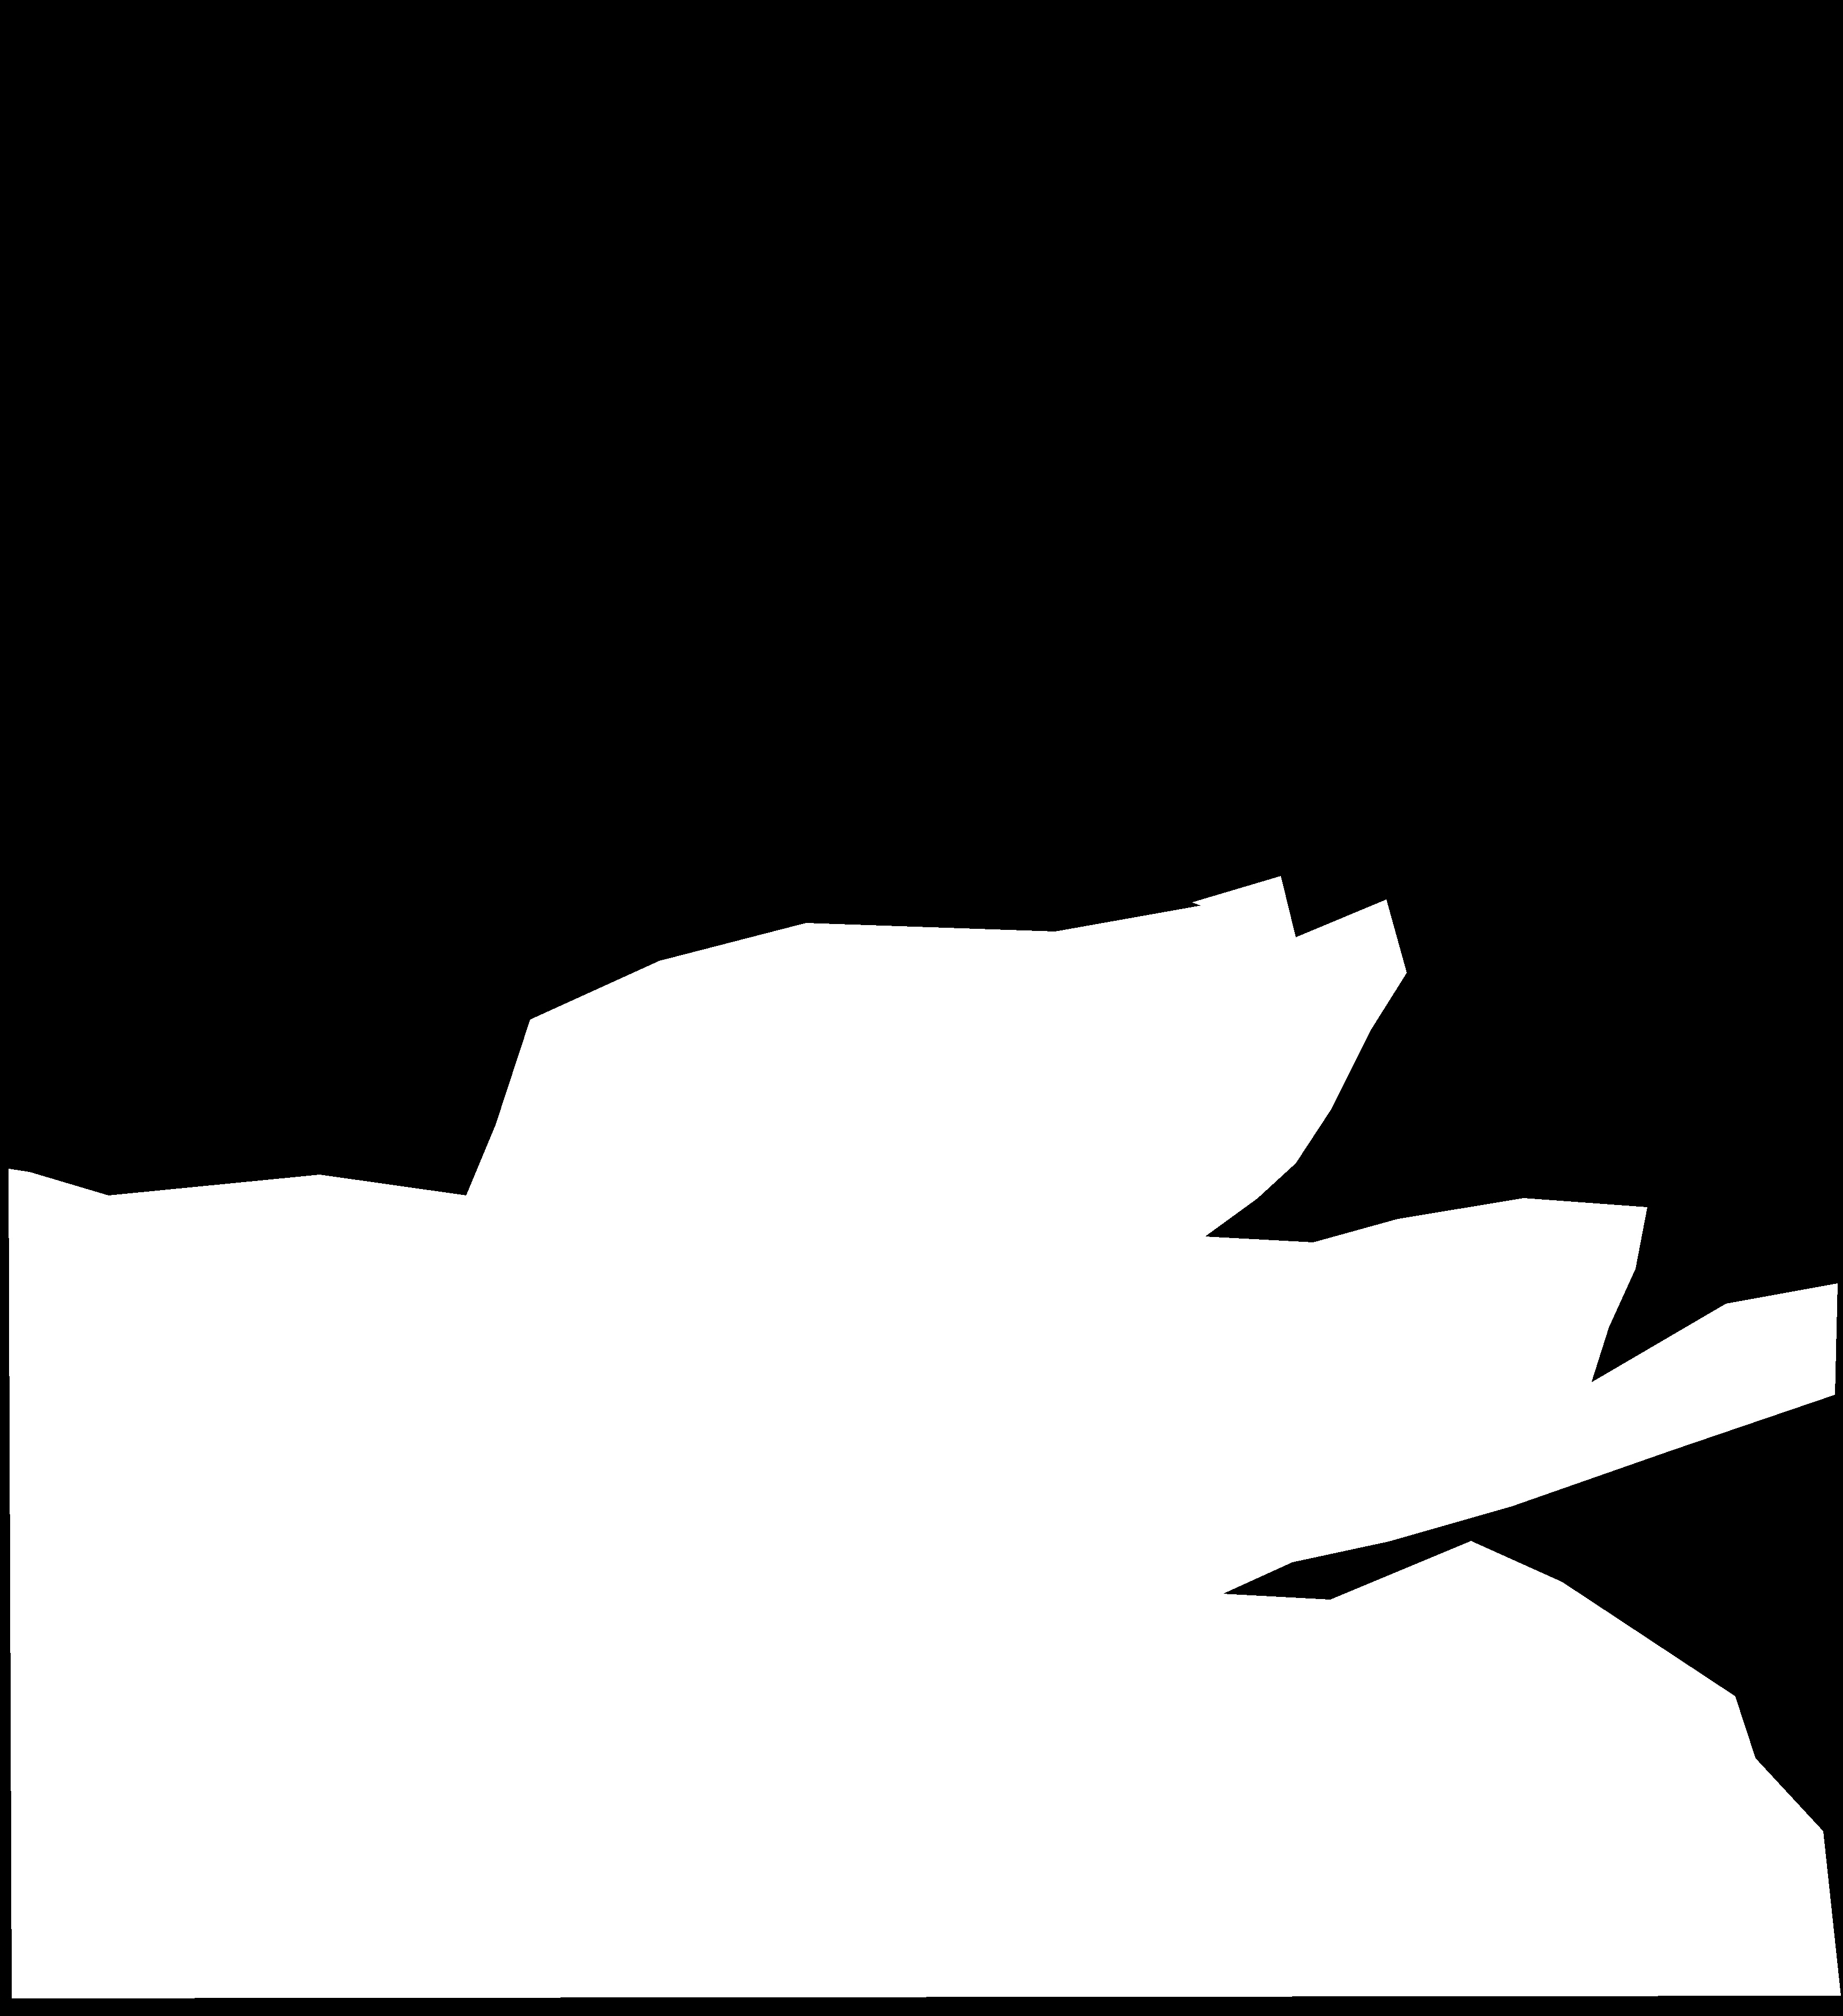fire: (741, 834, 1388, 1194)
